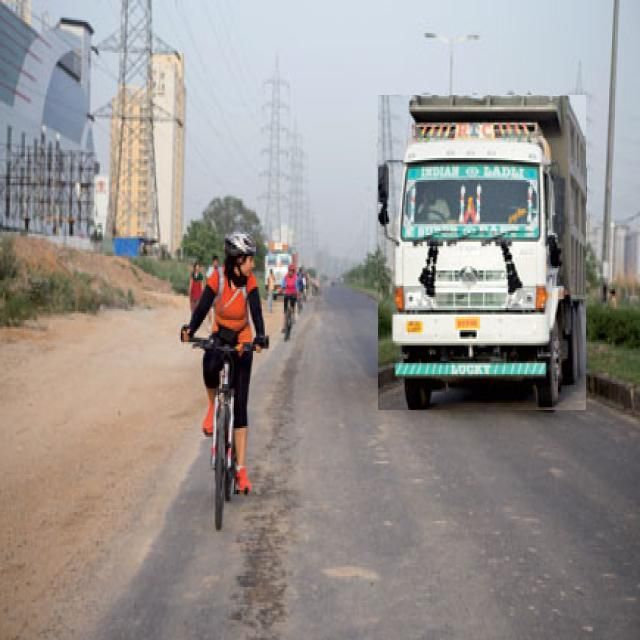bicycle: (181, 232, 269, 530)
truck: (378, 95, 586, 410)
